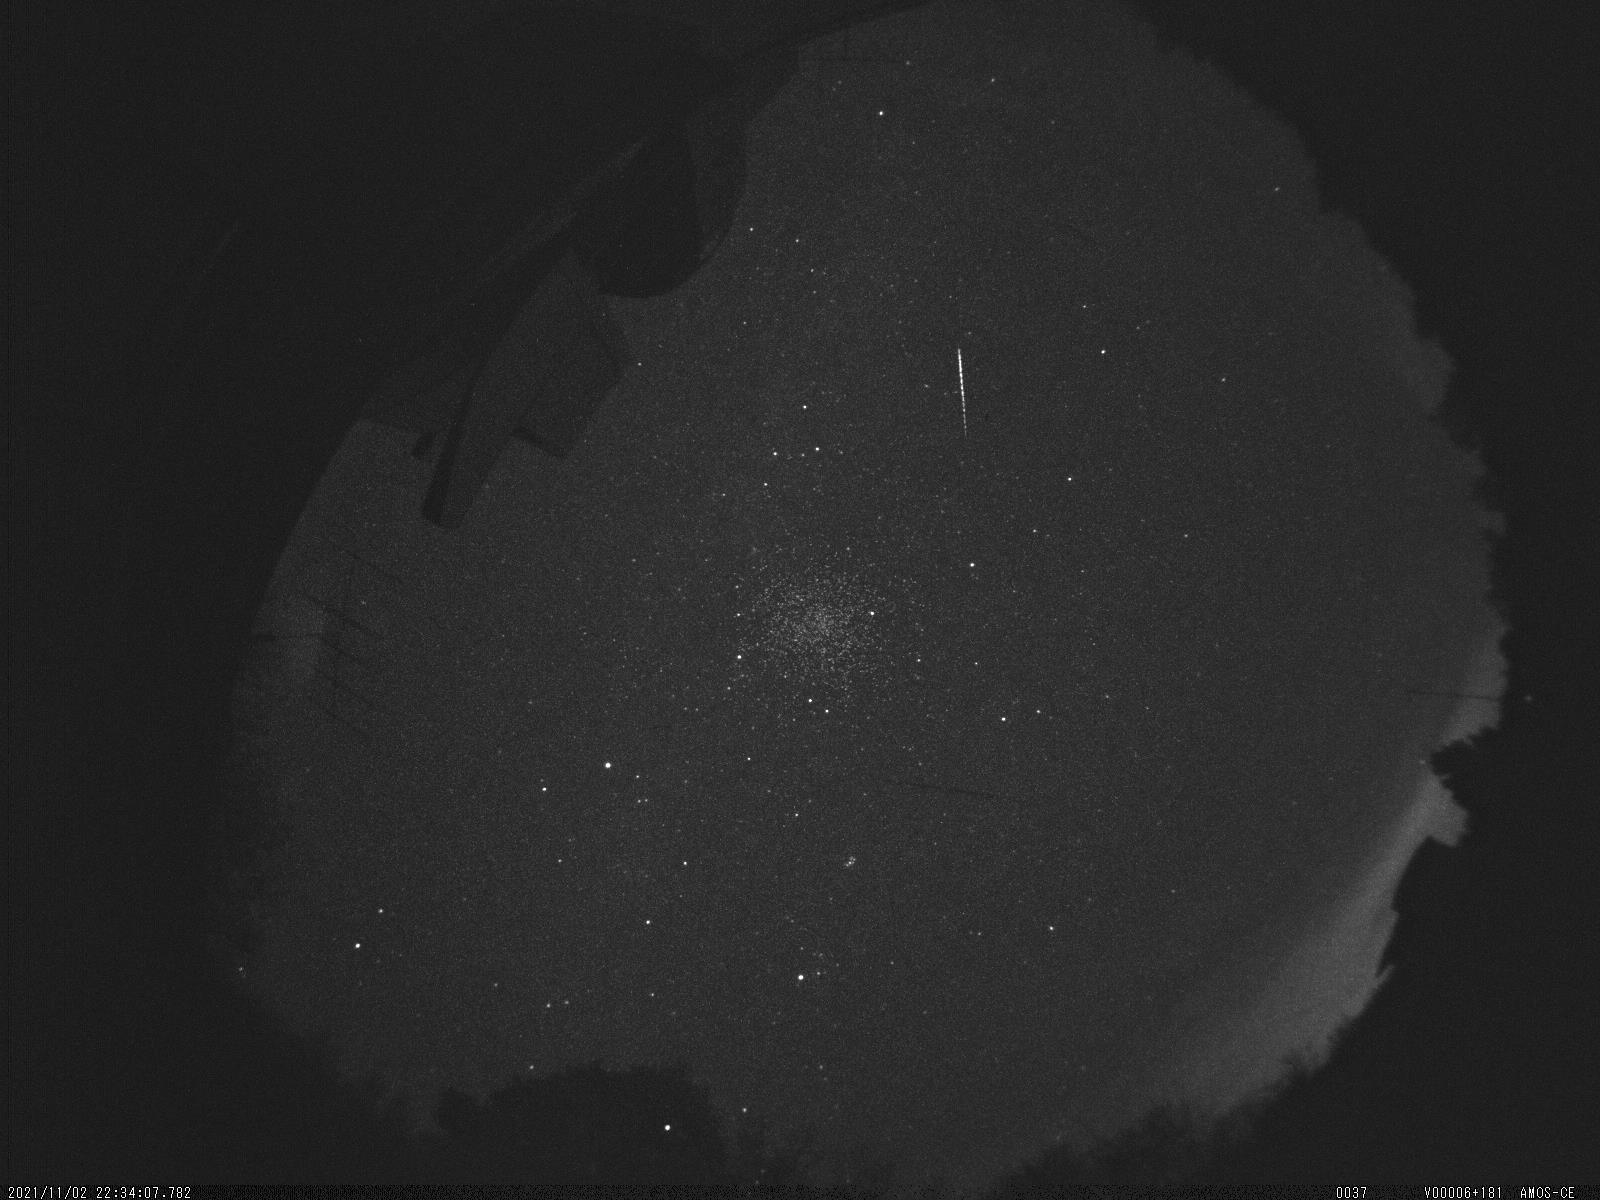Meteor: (950, 332, 974, 456)
